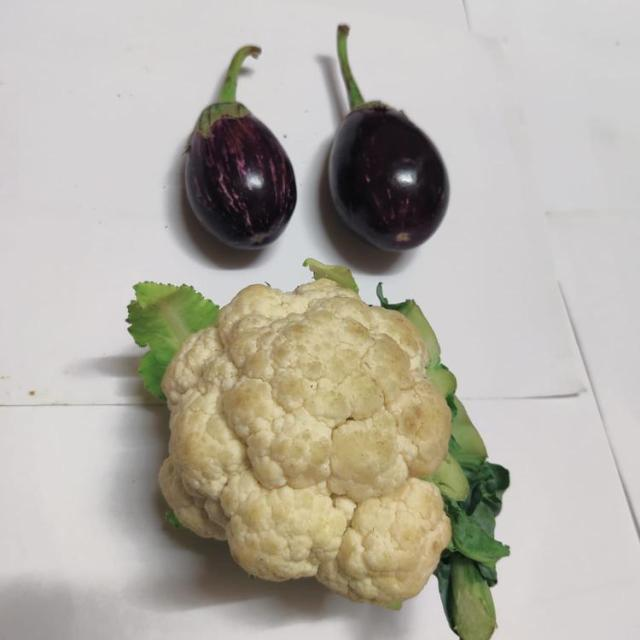Organik: (134, 246, 542, 636), (318, 22, 452, 260), (177, 29, 309, 268)
